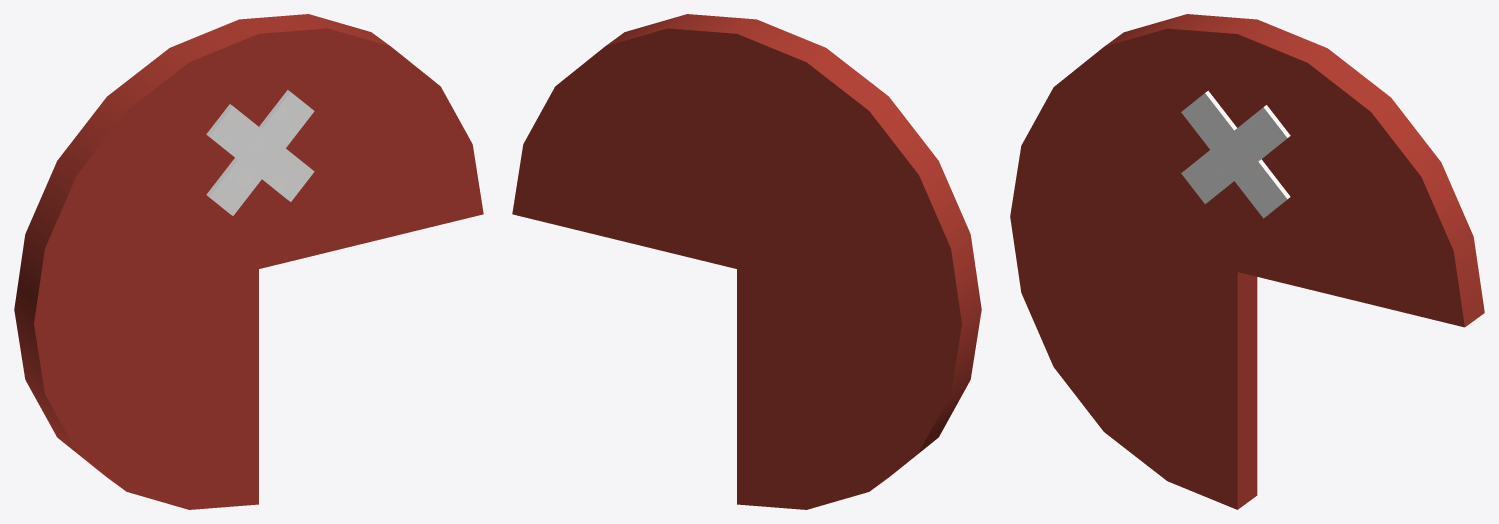
The model's file is tron xoay.fbx.
3 views of the same model, side by side, from view 1: azimuth 30°, elevation 25°; view 2: azimuth 150°, elevation 25°; view 3: azimuth 330°, elevation 25° (orthographic).
Visible parts, largest first — view 1: tron_xoay; view 2: tron_xoay; view 3: tron_xoay.
Part boxes in pixels (x1,y1,x2,y2): tron_xoay: (14, 14, 483, 509); tron_xoay: (512, 14, 981, 509); tron_xoay: (1010, 14, 1484, 509).
Size of the model in its own units: 301 by 301 by 26.54.
